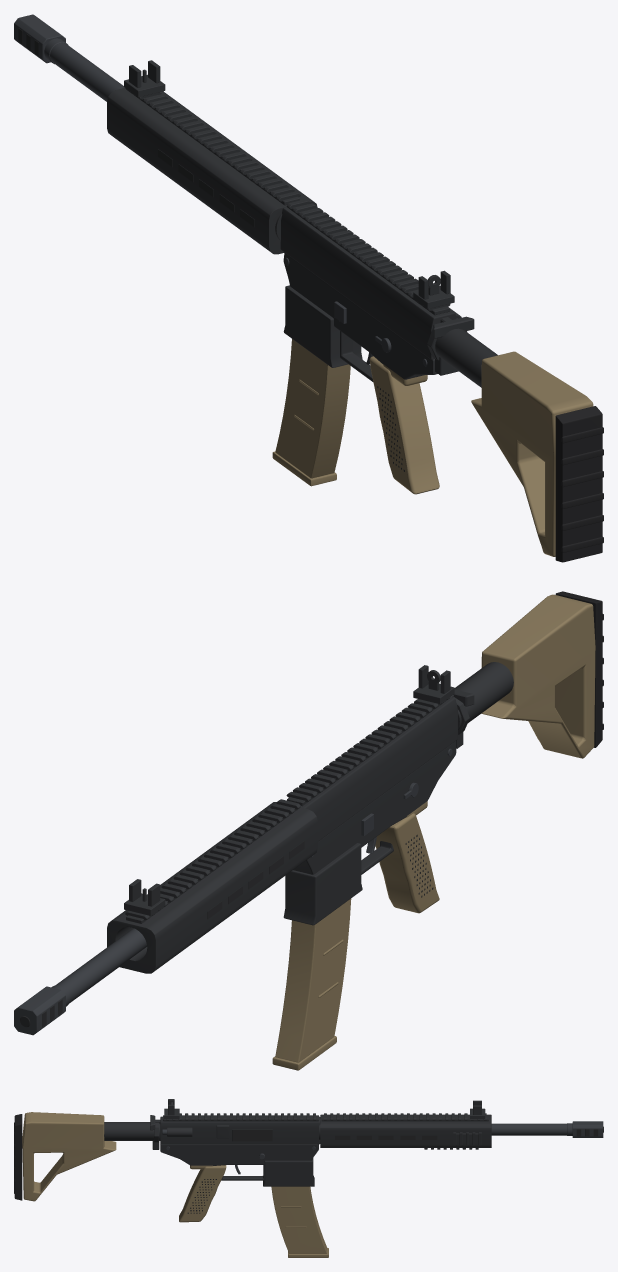
File: wpn_corsair_ar.glb
3 renders of one model, top to bottom at view 1: azimuth 30°, elevation 25°; view 2: azimuth 150°, elevation 25°; view 3: azimuth 270°, elevation 25°, orthographic. The views are drawn at different scales.
Visible parts, largest first — view 1: Stock, Handguard, Lower, Magazine, Upper, ButtPad, Grip, HandguardRails, TopRail, BufferTube, IronSights, Barrel (+1 smaller); view 2: Stock, Handguard, Lower, Magazine, Upper, Grip, HandguardRails, TopRail, Barrel, BufferTube, IronSights, MuzzleBrake (+2 smaller); view 3: Stock, Lower, Handguard, Upper, Magazine, HandguardRails, Grip, TopRail, BufferTube, Barrel, ButtPad, MuzzleBrake (+3 smaller).
Part boxes in pixels (bbox=[...]): Stock: bbox=[471, 351, 593, 556]; Handguard: bbox=[107, 88, 317, 254]; Lower: bbox=[283, 252, 437, 381]; Magazine: bbox=[272, 339, 350, 486]; Upper: bbox=[280, 207, 461, 359]; ButtPad: bbox=[555, 406, 603, 562]; Grip: bbox=[369, 356, 439, 494]; HandguardRails: bbox=[125, 88, 300, 205]; TopRail: bbox=[286, 199, 450, 315]; BufferTube: bbox=[427, 328, 497, 387]; IronSights: bbox=[124, 60, 454, 308]; Barrel: bbox=[50, 43, 124, 101]; Stock: bbox=[481, 594, 595, 758]; Handguard: bbox=[107, 802, 317, 973]; Lower: bbox=[283, 741, 456, 925]; Magazine: bbox=[272, 898, 351, 1070]; Upper: bbox=[301, 696, 457, 841]; Grip: bbox=[375, 801, 439, 913]; HandguardRails: bbox=[125, 799, 300, 923]; TopRail: bbox=[286, 697, 450, 806]; Barrel: bbox=[56, 928, 146, 1003]; BufferTube: bbox=[453, 662, 513, 748]; IronSights: bbox=[124, 665, 454, 915]; MuzzleBrake: bbox=[14, 985, 69, 1035]; Stock: bbox=[22, 1112, 116, 1201]; Lower: bbox=[160, 1144, 318, 1186]; Handguard: bbox=[319, 1114, 491, 1147]; Upper: bbox=[160, 1116, 320, 1144]; Magazine: bbox=[271, 1186, 328, 1257]; HandguardRails: bbox=[321, 1113, 488, 1149]; Grip: bbox=[179, 1165, 226, 1222]; TopRail: bbox=[163, 1113, 318, 1121]; BufferTube: bbox=[104, 1122, 160, 1149]; Barrel: bbox=[491, 1123, 566, 1135]; ButtPad: bbox=[14, 1114, 22, 1200]; MuzzleBrake: bbox=[567, 1121, 603, 1137].
Size of the model in its own units: 0.053 by 0.2632 by 0.9231.
